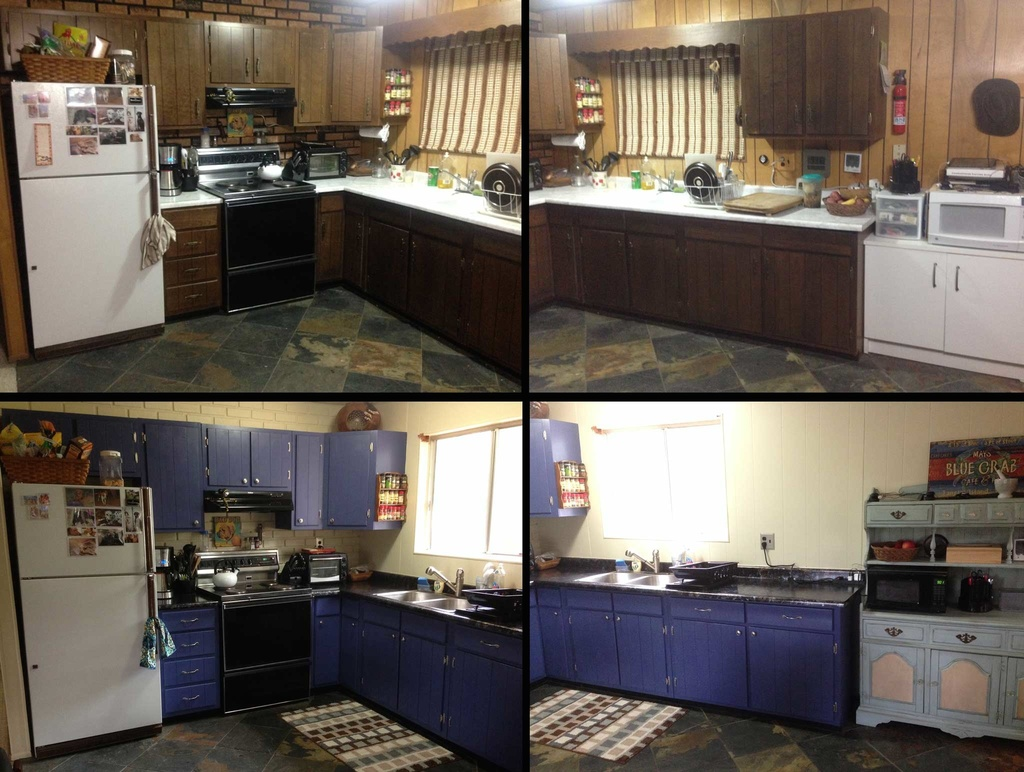cabinet door: (753, 629, 834, 715), (148, 422, 202, 533), (146, 23, 200, 131), (669, 625, 747, 699), (924, 642, 999, 717), (450, 655, 510, 740), (414, 239, 467, 326), (568, 608, 619, 688), (482, 282, 525, 373), (327, 442, 374, 525), (333, 32, 377, 120), (867, 645, 924, 709), (356, 220, 406, 292), (397, 635, 435, 728), (299, 25, 333, 123), (620, 617, 663, 692), (292, 433, 324, 528), (363, 625, 398, 710), (206, 430, 254, 490), (207, 25, 253, 83), (252, 19, 295, 80), (250, 433, 291, 494), (747, 605, 834, 633), (456, 632, 518, 669), (674, 598, 749, 626), (319, 216, 349, 284), (319, 618, 344, 695), (932, 626, 1003, 652), (866, 619, 926, 647), (163, 681, 220, 710), (166, 282, 220, 311), (168, 227, 217, 256), (162, 632, 215, 658), (342, 619, 360, 695), (867, 505, 930, 526), (167, 655, 217, 681), (1005, 656, 1024, 724), (166, 609, 216, 632), (167, 261, 219, 282), (930, 505, 962, 523), (961, 504, 987, 523), (989, 502, 1011, 524), (1007, 627, 1024, 652), (1014, 501, 1024, 526)
handle: (135, 480, 157, 573), (139, 566, 162, 641), (141, 87, 158, 173), (146, 177, 162, 247), (478, 635, 500, 660), (781, 609, 807, 627), (690, 603, 717, 619), (189, 509, 205, 533), (175, 637, 199, 652), (179, 663, 199, 681), (182, 688, 202, 706), (882, 626, 905, 641), (958, 627, 978, 644), (239, 55, 253, 76), (887, 506, 909, 518), (748, 625, 763, 642), (238, 469, 251, 488), (598, 610, 614, 624), (180, 613, 198, 625), (297, 511, 308, 530), (252, 58, 263, 76), (614, 610, 625, 627), (733, 626, 744, 642), (252, 475, 265, 488)
refrigerator door: (20, 174, 158, 331), (22, 577, 162, 728), (10, 79, 157, 169), (15, 484, 153, 569)
